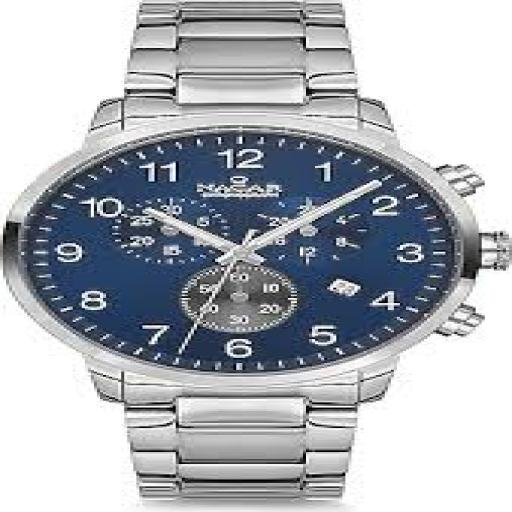KolSaati: (4, 2, 505, 510)
